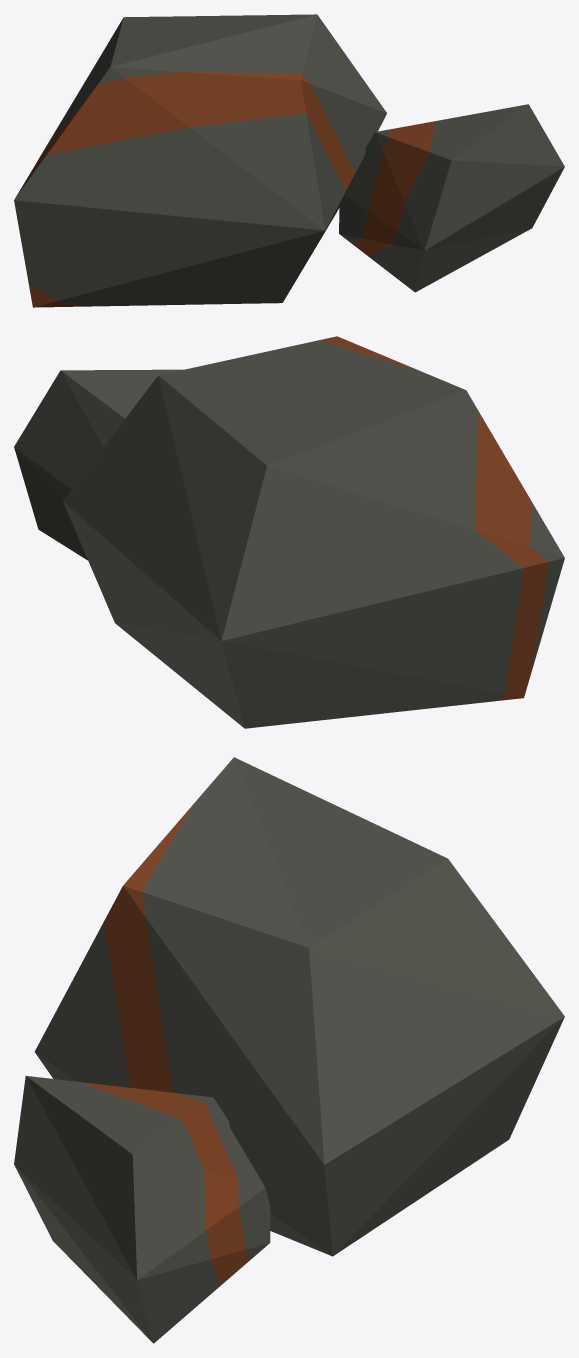
The model's file is ore_copper_v03_lod1.glb.
3 renders of one model, top to bottom at view 1: azimuth 30°, elevation 25°; view 2: azimuth 150°, elevation 25°; view 3: azimuth 270°, elevation 25°, orthographic. The views are drawn at different scales.
Parts seen in each view (by area): view 1: ore_copper_v03_lod1; view 2: ore_copper_v03_lod1; view 3: ore_copper_v03_lod1.
Boxes of the visible parts, box(x1,y1,x2,y2) form: ore_copper_v03_lod1: box(14, 14, 564, 307); ore_copper_v03_lod1: box(14, 336, 564, 728); ore_copper_v03_lod1: box(14, 757, 564, 1343).
Size of the model in its own units: 2.58 by 1.14 by 1.76.
